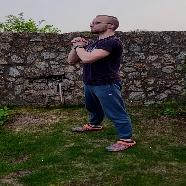squats: (62, 8, 143, 157)
